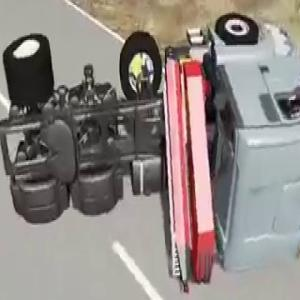fatal: (0, 2, 300, 288)
